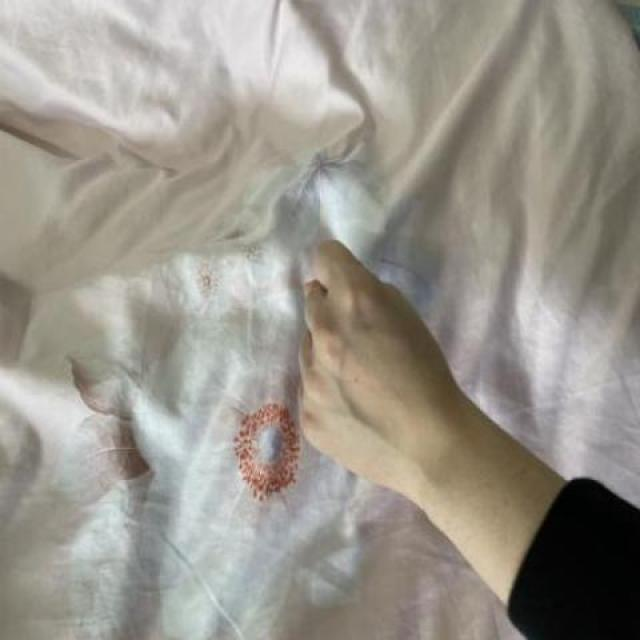fist: (292, 241, 468, 499)
